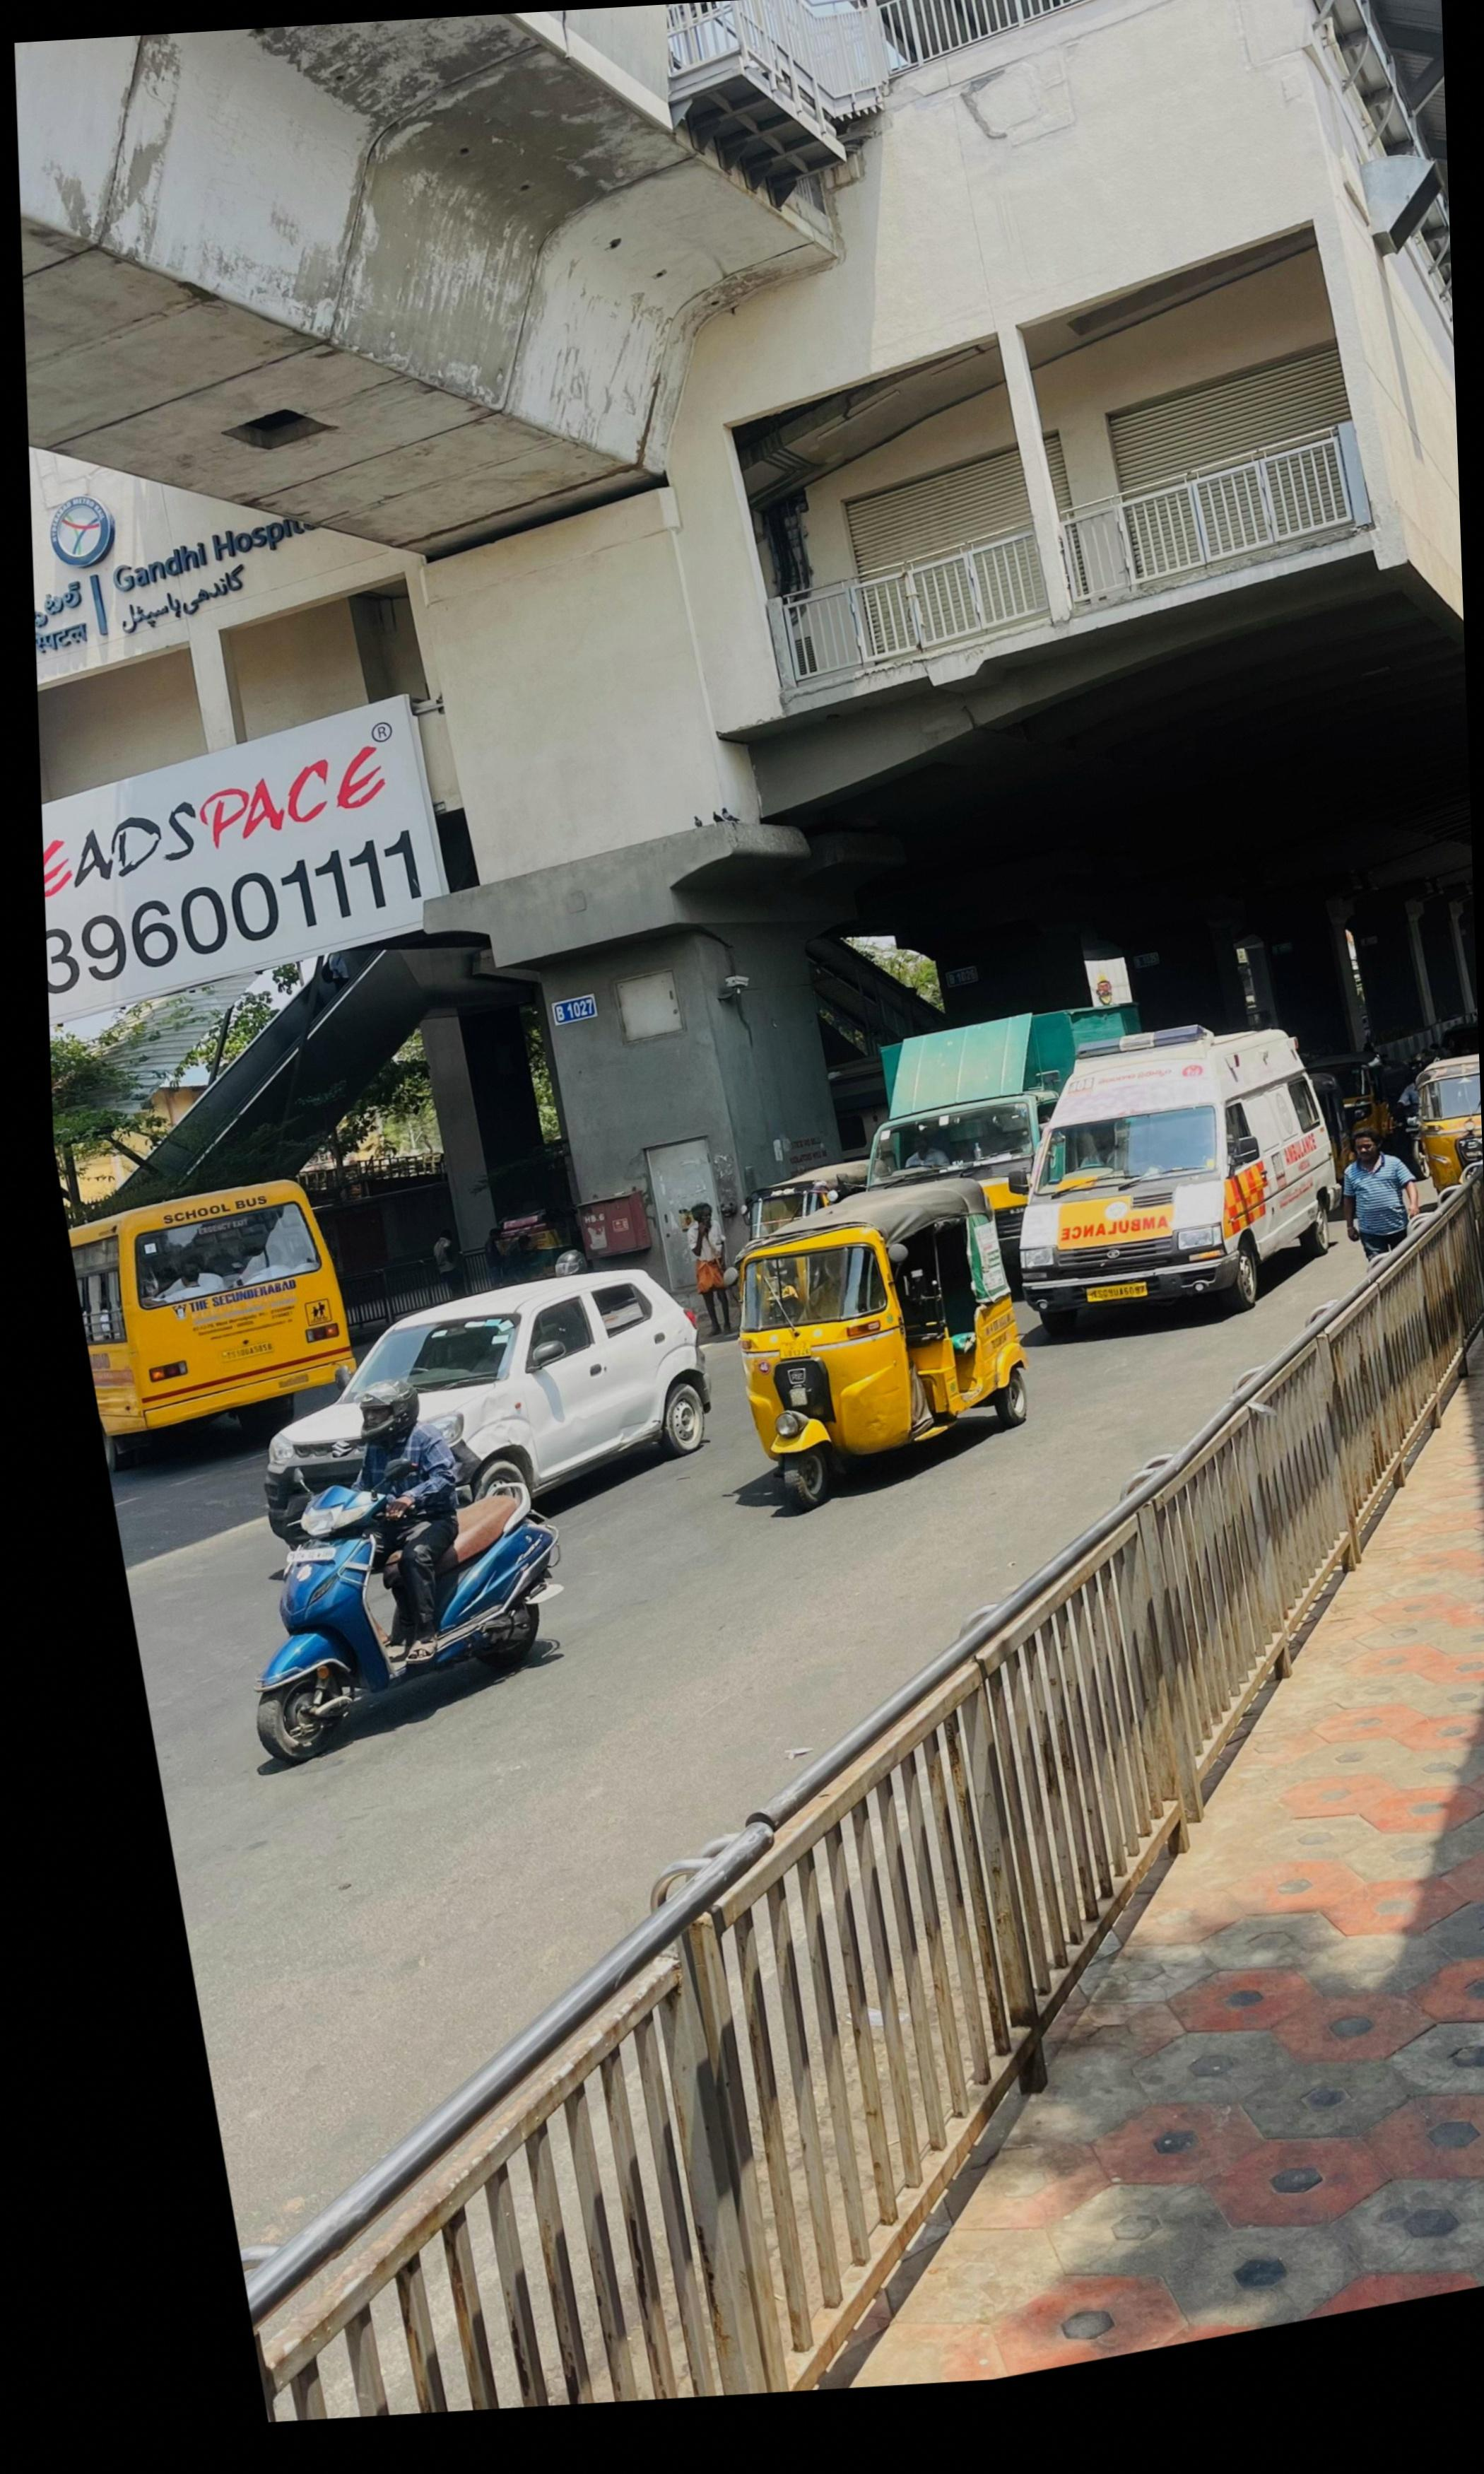ambulance: (1021, 1018, 1323, 1336)
